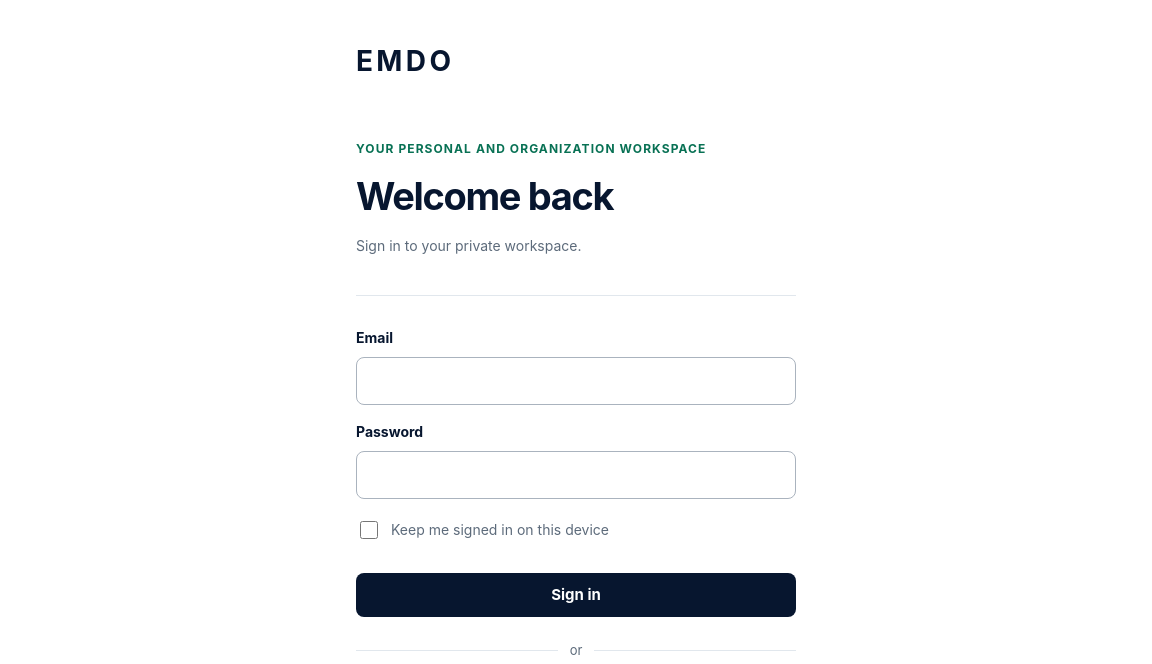
Test case: invite-only authentication routes › signs in with verified email/password and exposes no public sign-up path
Expected: the heading "Welcome back" is shown, [356,173,613,219]
Type "MEMBER@example.ca" into the field labelled "Email" at (576, 381), box [356,357,796,405]
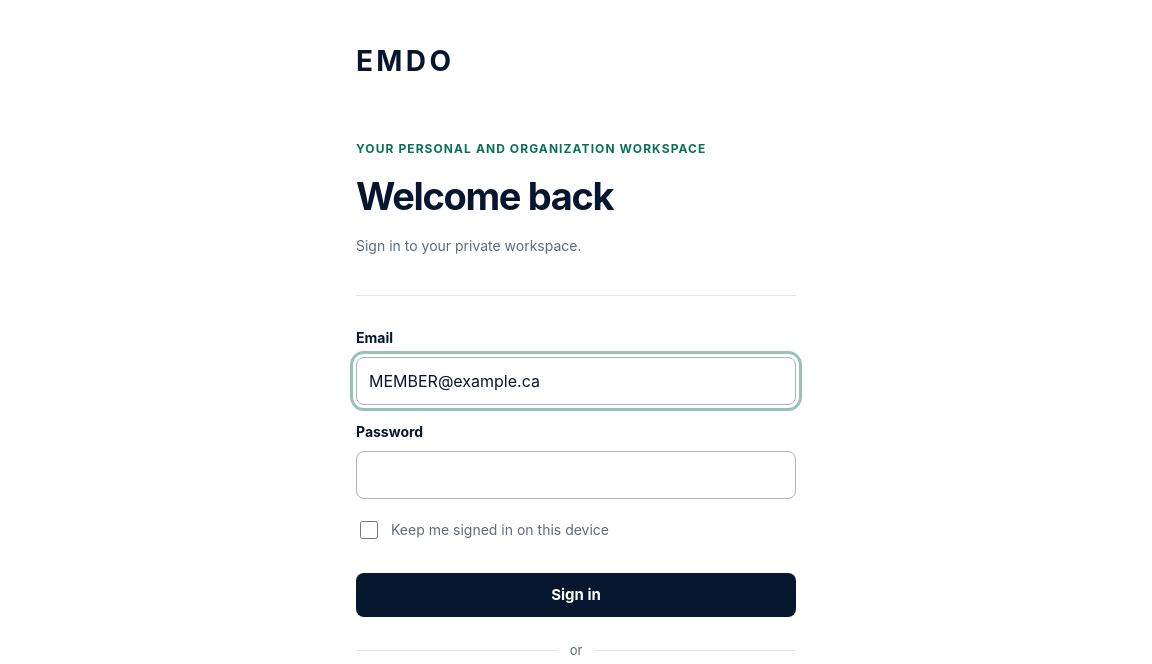
Type "correct horse battery staple" into the password field labelled "Password" at (576, 475), box [356,451,796,499]
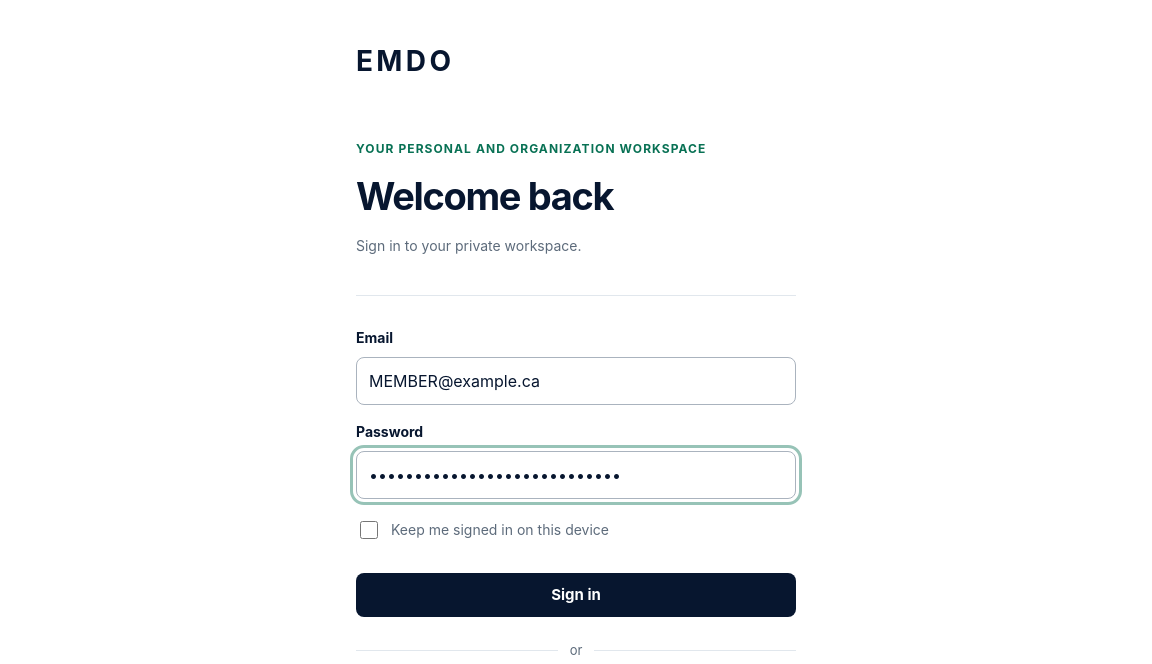
Click the button "Sign in" at (576, 595), box [356,573,796,617]
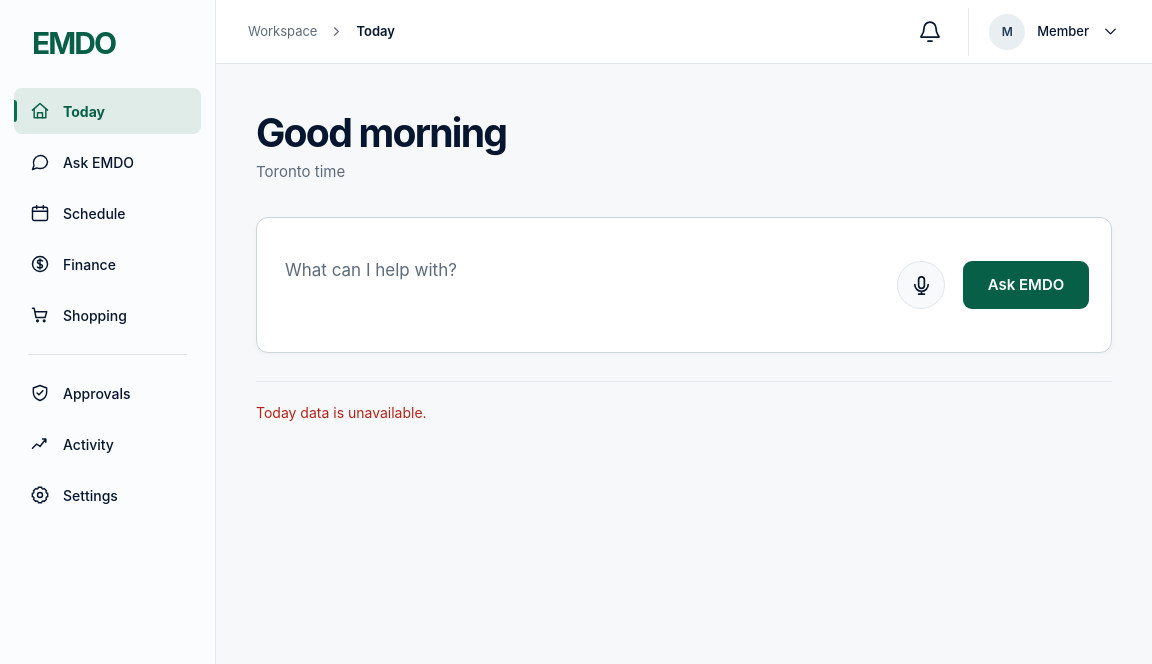
Result: the heading "Good morning" is shown at [256,109,506,156]
